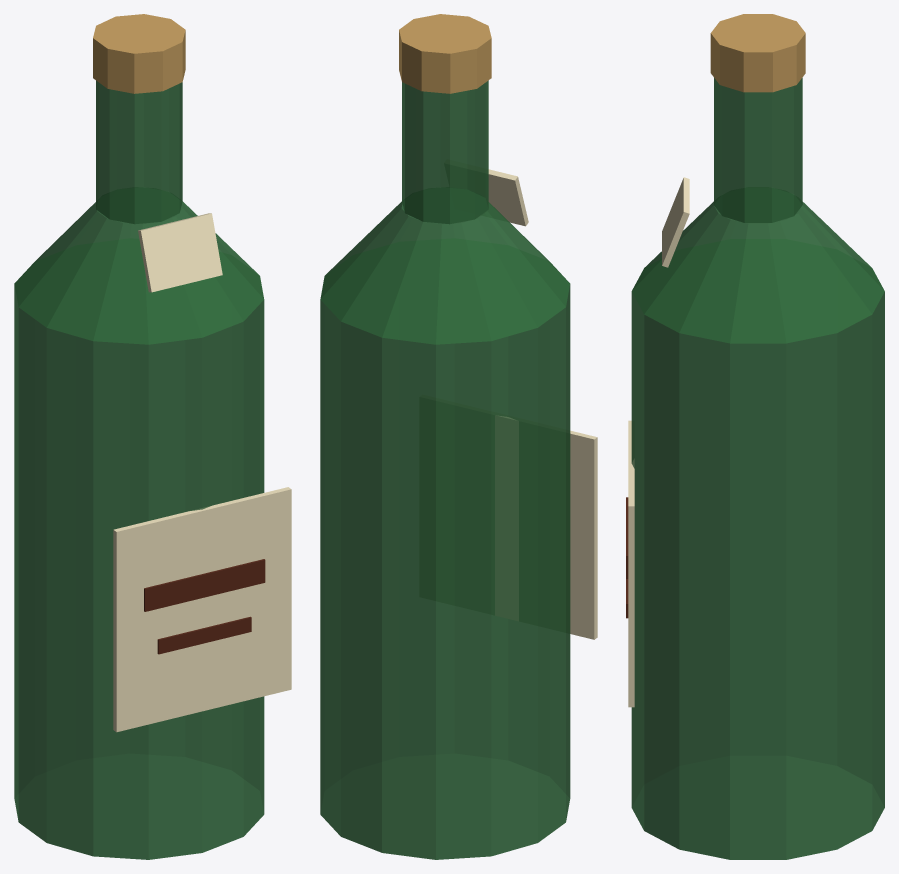
The model's file is bottle.glb.
3 views of the same model, side by side, from view 1: azimuth 30°, elevation 25°; view 2: azimuth 150°, elevation 25°; view 3: azimuth 270°, elevation 25° (orthographic).
Parts seen in each view (by area): view 1: bottle; view 2: bottle; view 3: bottle.
Boxes of the visible parts, bbox=[...] form: bottle: bbox=[14, 14, 291, 859]; bottle: bbox=[320, 14, 597, 859]; bottle: bbox=[626, 14, 884, 859].
Bounding box in the file's own units: 0.078 × 0.27 × 0.0817.
